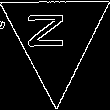N_E: (33, 17, 78, 58)
